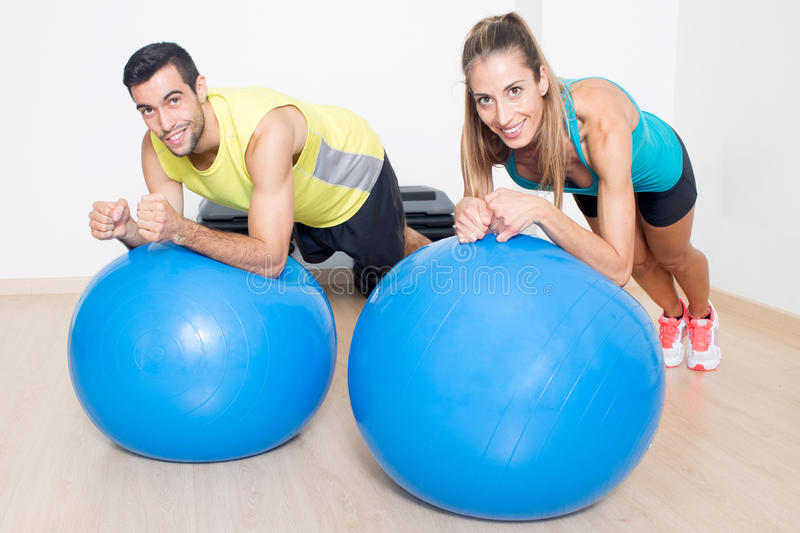blue ball: (344, 228, 667, 521), (65, 237, 339, 465)
